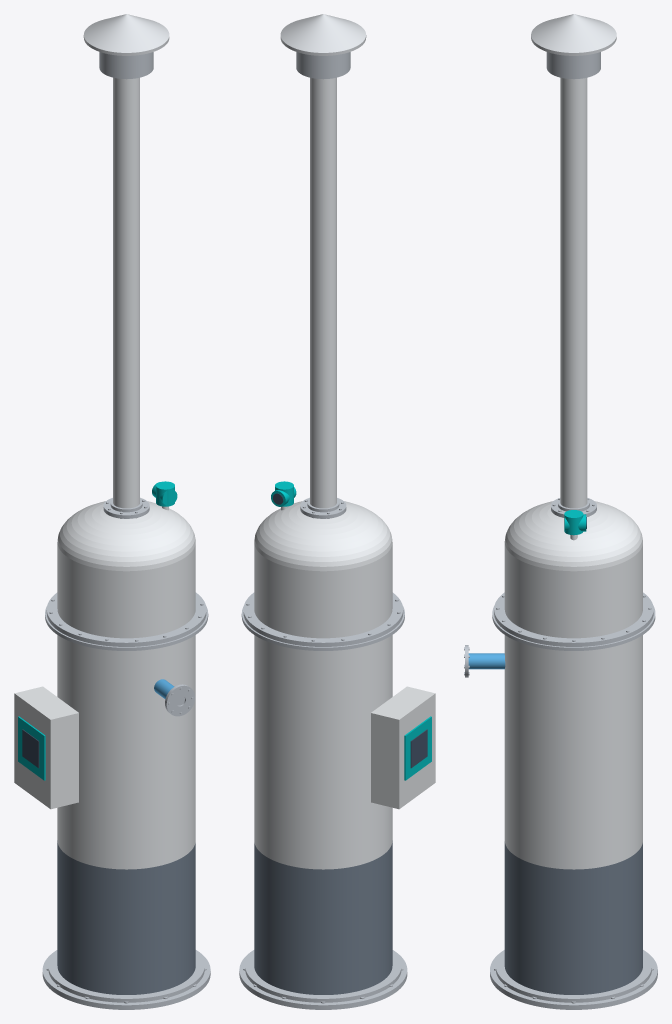
The model's file is V-400_Anode_O2_Degasser.glb.
3 renders of one model, left to right at view 1: azimuth 30°, elevation 25°; view 2: azimuth 150°, elevation 25°; view 3: azimuth 270°, elevation 25°, orthographic.
Parts seen in each view (by area): view 1: V-400_017__V400_316L_Degasser_Shell__SS316L_POLISHED, V-400_001__V400_Support_Skirt__STRUCTURAL_SLATE_IS800, V-400_048__V400_Elevated_O2_Vent_Stack__SS316L_POLISHED, V-400_018__V400_Top_2to1_Head__SS316L_POLISHED, V-400_060__SIF01_NDIR_Crossover_Analyzer_Cabinet__SIEMENS_RA, V-400_059__V400_Conical_Weather_Hood__SS304_SATIN, V-400_020__V400_Demister_Body_Flange__FLANGE_FORGED_SS, V-400_004__V400_Skirt_Anchor_Ring_Neck__FLANGE_FORGED_SS, V-400_003__V400_Skirt_Anchor_Ring__FLANGE_FORGED_SS, V-400_049__V400_Detonation_Flame_Arrestor__FLANGE_FORGED_SS, V-400_061__SIF01_SITRANS_Ultramat23_Bezel__SIEMENS_PETROL_TE, V-400_021__V400_Demister_Body_Flange_Neck__FLANGE_FORGED_SS (+3 smaller); view 2: V-400_017__V400_316L_Degasser_Shell__SS316L_POLISHED, V-400_001__V400_Support_Skirt__STRUCTURAL_SLATE_IS800, V-400_048__V400_Elevated_O2_Vent_Stack__SS316L_POLISHED, V-400_018__V400_Top_2to1_Head__SS316L_POLISHED, V-400_060__SIF01_NDIR_Crossover_Analyzer_Cabinet__SIEMENS_RA, V-400_059__V400_Conical_Weather_Hood__SS304_SATIN, V-400_020__V400_Demister_Body_Flange__FLANGE_FORGED_SS, V-400_004__V400_Skirt_Anchor_Ring_Neck__FLANGE_FORGED_SS, V-400_003__V400_Skirt_Anchor_Ring__FLANGE_FORGED_SS, V-400_049__V400_Detonation_Flame_Arrestor__FLANGE_FORGED_SS, V-400_061__SIF01_SITRANS_Ultramat23_Bezel__SIEMENS_PETROL_TE, V-400_021__V400_Demister_Body_Flange_Neck__FLANGE_FORGED_SS (+1 smaller); view 3: V-400_017__V400_316L_Degasser_Shell__SS316L_POLISHED, V-400_001__V400_Support_Skirt__STRUCTURAL_SLATE_IS800, V-400_048__V400_Elevated_O2_Vent_Stack__SS316L_POLISHED, V-400_018__V400_Top_2to1_Head__SS316L_POLISHED, V-400_059__V400_Conical_Weather_Hood__SS304_SATIN, V-400_020__V400_Demister_Body_Flange__FLANGE_FORGED_SS, V-400_004__V400_Skirt_Anchor_Ring_Neck__FLANGE_FORGED_SS, V-400_003__V400_Skirt_Anchor_Ring__FLANGE_FORGED_SS, V-400_049__V400_Detonation_Flame_Arrestor__FLANGE_FORGED_SS, V-400_021__V400_Demister_Body_Flange_Neck__FLANGE_FORGED_SS, V-400_038__V400_Tangential_Inlet_Nozzle__PIPING_O2_BLUE, V-400_064__LIT_401_SITRANS_LR110_Radar_Bezel__SIEMENS_PETROL.
Part boxes in pixels (x1,y1,x2,y2): V-400_017__V400_316L_Degasser_Shell__SS316L_POLISHED: (57,542,195,869); V-400_001__V400_Support_Skirt__STRUCTURAL_SLATE_IS800: (57,840,195,994); V-400_048__V400_Elevated_O2_Vent_Stack__SS316L_POLISHED: (113,77,139,508); V-400_018__V400_Top_2to1_Head__SS316L_POLISHED: (57,501,195,571); V-400_060__SIF01_NDIR_Crossover_Analyzer_Cabinet__SIEMENS_RA: (14,686,78,809); V-400_059__V400_Conical_Weather_Hood__SS304_SATIN: (83,14,169,55); V-400_020__V400_Demister_Body_Flange__FLANGE_FORGED_SS: (46,592,206,646); V-400_004__V400_Skirt_Anchor_Ring_Neck__FLANGE_FORGED_SS: (48,951,204,1002); V-400_003__V400_Skirt_Anchor_Ring__FLANGE_FORGED_SS: (42,950,210,1009); V-400_049__V400_Detonation_Flame_Arrestor__FLANGE_FORGED_SS: (99,52,153,79); V-400_061__SIF01_SITRANS_Ultramat23_Bezel__SIEMENS_PETROL_TE: (18,716,45,780); V-400_021__V400_Demister_Body_Flange_Neck__FLANGE_FORGED_SS: (45,606,208,650); V-400_017__V400_316L_Degasser_Shell__SS316L_POLISHED: (254,542,392,869); V-400_001__V400_Support_Skirt__STRUCTURAL_SLATE_IS800: (254,840,392,994); V-400_048__V400_Elevated_O2_Vent_Stack__SS316L_POLISHED: (310,77,336,508); V-400_018__V400_Top_2to1_Head__SS316L_POLISHED: (254,501,392,571); V-400_060__SIF01_NDIR_Crossover_Analyzer_Cabinet__SIEMENS_RA: (371,686,435,809); V-400_059__V400_Conical_Weather_Hood__SS304_SATIN: (280,14,366,55); V-400_020__V400_Demister_Body_Flange__FLANGE_FORGED_SS: (243,592,403,646); V-400_004__V400_Skirt_Anchor_Ring_Neck__FLANGE_FORGED_SS: (245,951,401,1002); V-400_003__V400_Skirt_Anchor_Ring__FLANGE_FORGED_SS: (239,950,407,1009); V-400_049__V400_Detonation_Flame_Arrestor__FLANGE_FORGED_SS: (296,52,350,79); V-400_061__SIF01_SITRANS_Ultramat23_Bezel__SIEMENS_PETROL_TE: (404,716,431,780); V-400_021__V400_Demister_Body_Flange_Neck__FLANGE_FORGED_SS: (241,606,404,650); V-400_017__V400_316L_Degasser_Shell__SS316L_POLISHED: (504,543,642,869); V-400_001__V400_Support_Skirt__STRUCTURAL_SLATE_IS800: (504,841,642,994); V-400_048__V400_Elevated_O2_Vent_Stack__SS316L_POLISHED: (560,77,587,508); V-400_018__V400_Top_2to1_Head__SS316L_POLISHED: (504,501,642,571); V-400_059__V400_Conical_Weather_Hood__SS304_SATIN: (531,14,616,55); V-400_020__V400_Demister_Body_Flange__FLANGE_FORGED_SS: (494,592,653,646); V-400_004__V400_Skirt_Anchor_Ring_Neck__FLANGE_FORGED_SS: (496,951,651,1002); V-400_003__V400_Skirt_Anchor_Ring__FLANGE_FORGED_SS: (490,950,657,1009); V-400_049__V400_Detonation_Flame_Arrestor__FLANGE_FORGED_SS: (546,52,600,79); V-400_021__V400_Demister_Body_Flange_Neck__FLANGE_FORGED_SS: (492,606,655,650); V-400_038__V400_Tangential_Inlet_Nozzle__PIPING_O2_BLUE: (468,653,505,669); V-400_064__LIT_401_SITRANS_LR110_Radar_Bezel__SIEMENS_PETROL: (564,510,586,535).
Size of the model in its own units: 1.18 by 6.45 by 1.18.
